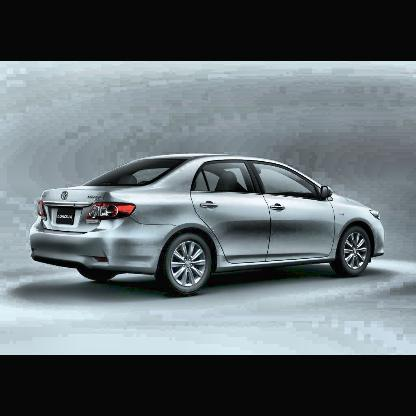Toyota Corolla Sedan 2012: (25, 152, 387, 297)
